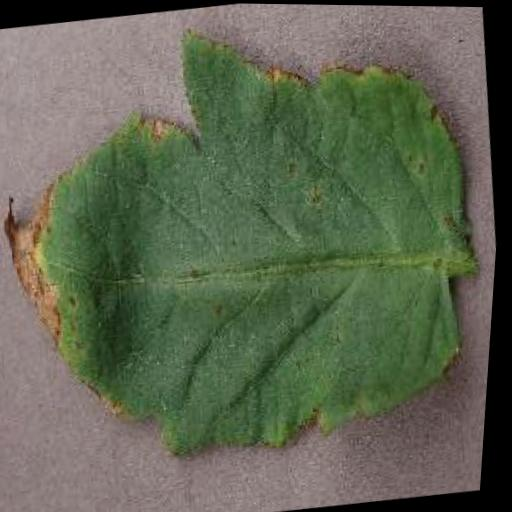Bacterial Spot: (0, 0, 510, 491)
